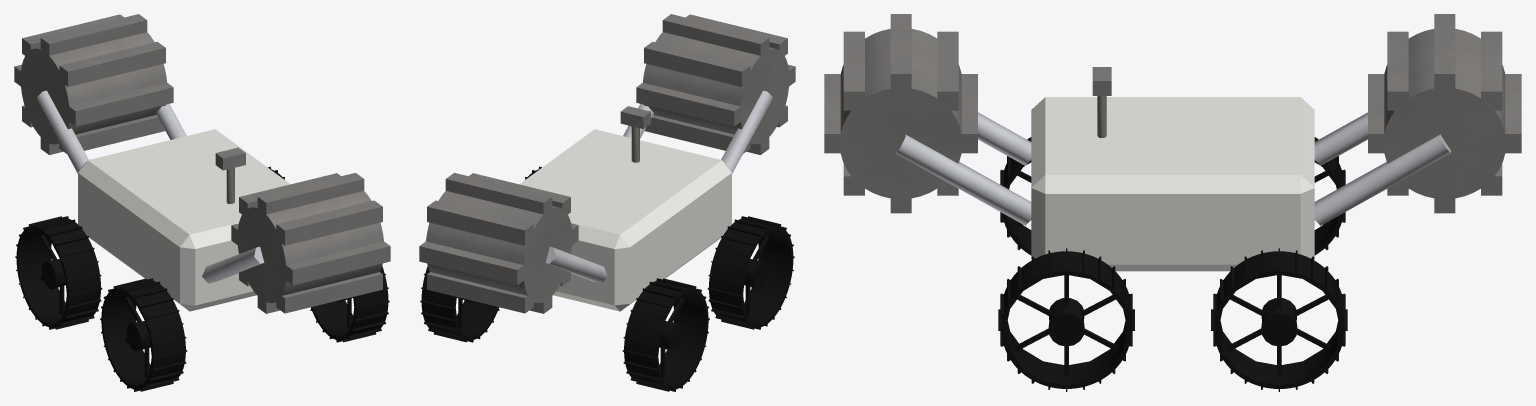
Rendered from rover06_excavator.glb.
3 views of the same model, side by side, from view 1: azimuth 30°, elevation 25°; view 2: azimuth 150°, elevation 25°; view 3: azimuth 270°, elevation 25° (orthographic). The views are drawn at different scales.
Parts seen in each view (by area): view 1: body, drum_front, drum_rear, wheel_3, wheel_4, drum_arms, wheel_1, mast; view 2: body, drum_rear, drum_front, wheel_4, wheel_3, wheel_2, drum_arms, mast; view 3: body, drum_front, drum_rear, drum_arms, wheel_1, wheel_2, wheel_4, wheel_3, mast.
Part boxes in pixels (x1,y1,x2,y2): body: (78,129,290,311); drum_front: (231,173,390,313); drum_rear: (14,14,173,154); wheel_3: (100,278,187,391); wheel_4: (15,216,102,329); drum_arms: (36,90,264,283); wheel_1: (310,266,389,342); mast: (215,147,245,203); body: (519,129,731,311); drum_rear: (419,173,578,313); drum_front: (636,14,795,154); wheel_4: (622,278,709,391); wheel_3: (707,216,794,329); wheel_2: (420,266,499,342); drum_arms: (545,90,773,283); mast: (620,106,650,162); body: (1031,97,1314,271); drum_front: (824,14,977,213); drum_rear: (1368,14,1521,213); drum_arms: (895,112,1450,225); wheel_1: (998,248,1134,391); wheel_2: (1211,248,1347,391); wheel_4: (1314,137,1345,255); wheel_3: (1000,137,1031,255); mast: (1092,67,1111,137).
Bounding box in the file's own units: 1.44 × 1.29 × 2.95.
4 materials, 2 textured.
